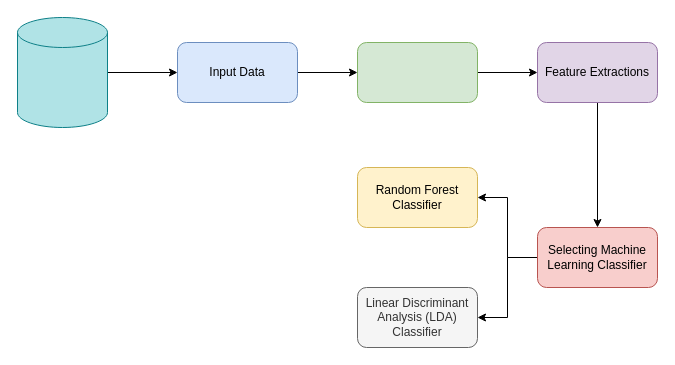
This 675x365 diagram has some shape labels left out. Here are the shapes that lost their labels. From the top down, the centre of each, then its label:
At pixel 62 72: "Music Dataset".
At pixel 417 72: "Data Pre-processing".
